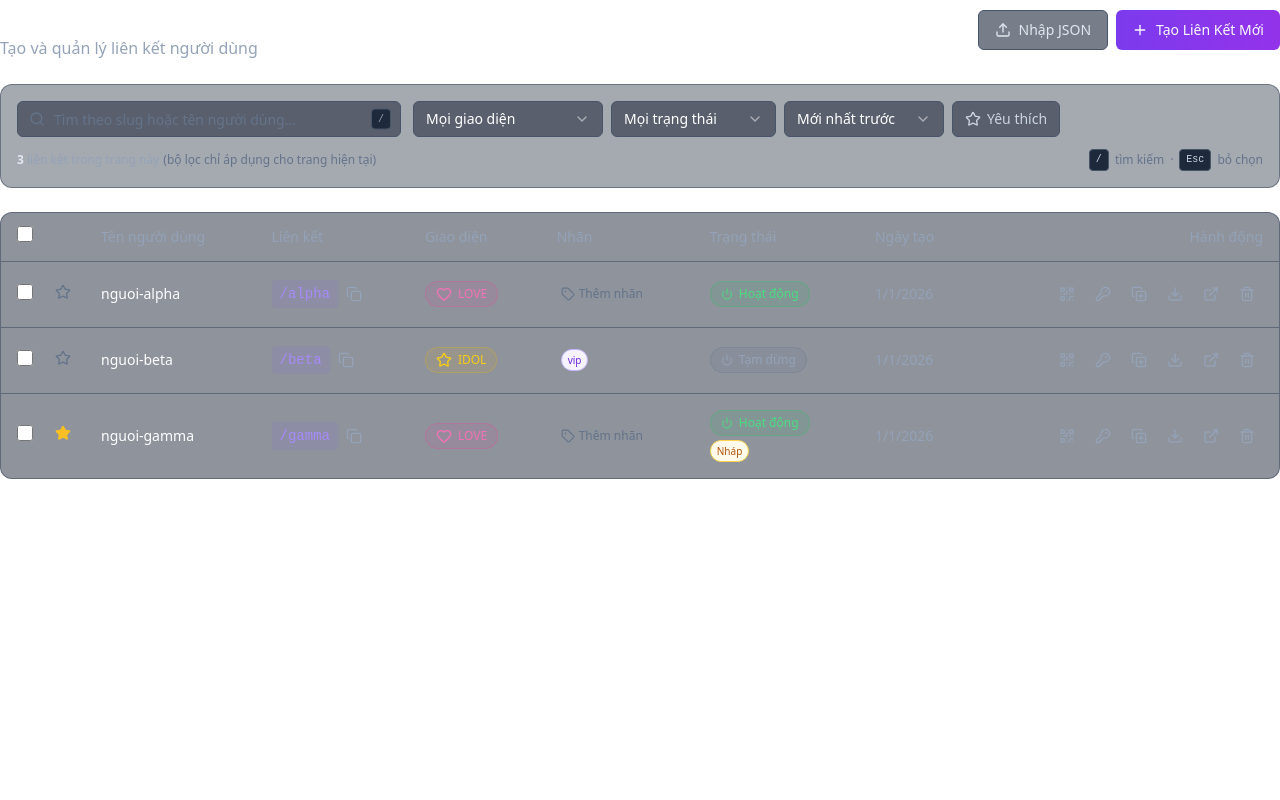
Scenario: LinksTable — thao tác từng dòng › mở dialog nhãn với đúng nhãn hiện có
Click the button with aria-label "Sửa nhãn" at x=575, y=360, box left=557, top=347, right=592, bottom=373
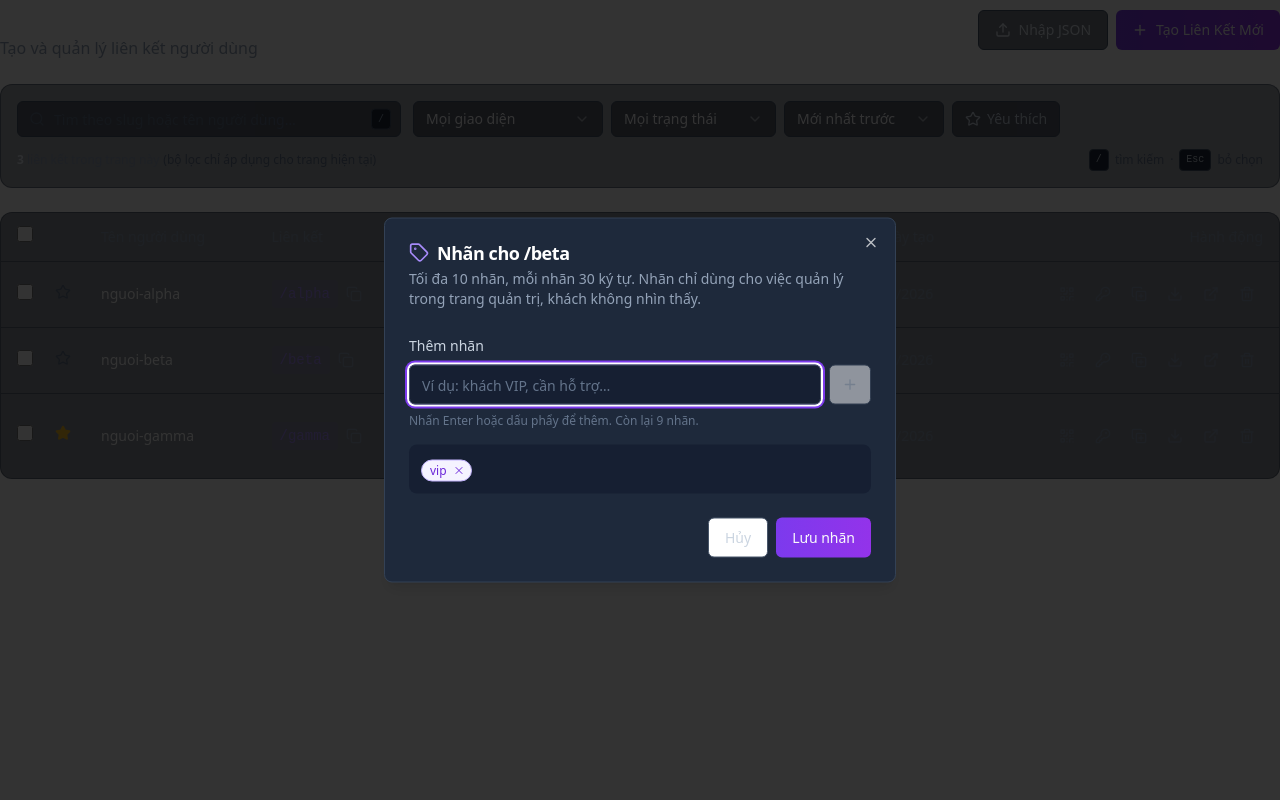
Result: the heading "Nhãn cho /beta" is shown at left=409, top=240, right=570, bottom=264
Result: the button named "Xoá nhãn vip" is shown at left=451, top=462, right=467, bottom=478
